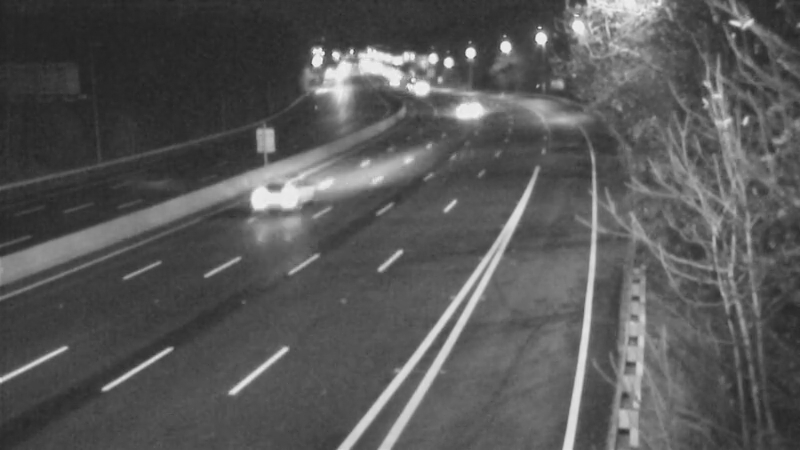vehicle: (240, 158, 320, 238), (394, 65, 444, 115), (440, 87, 490, 137)
